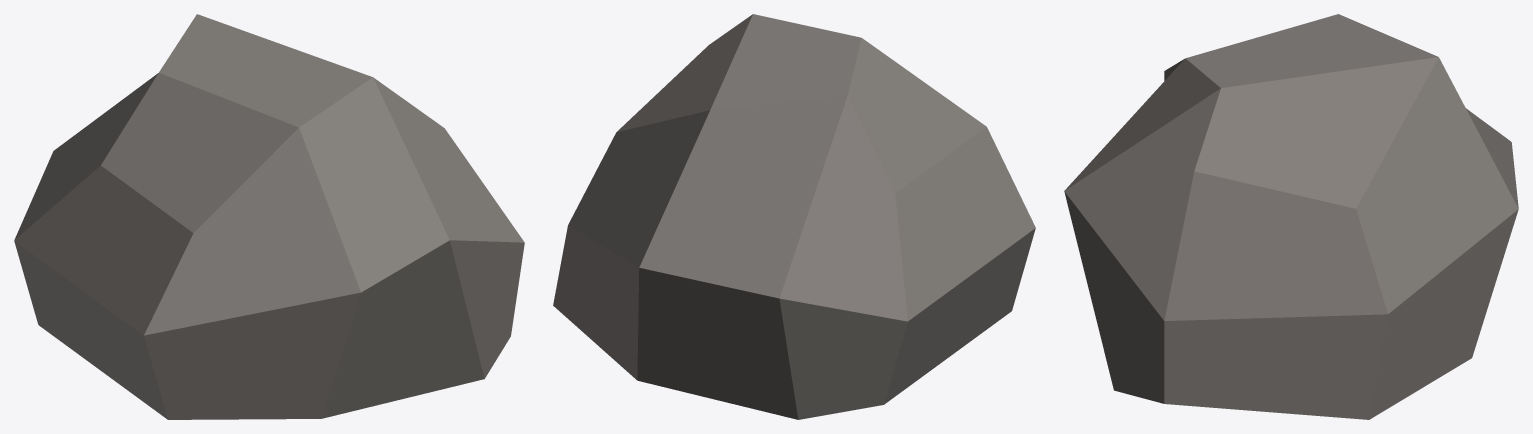
Rendered from Rock_L_1.fbx.
3 renders of one model, left to right at view 1: azimuth 30°, elevation 25°; view 2: azimuth 150°, elevation 25°; view 3: azimuth 270°, elevation 25°, orthographic.
Parts seen in each view (by area): view 1: Rock_1; view 2: Rock_1; view 3: Rock_1.
Boxes of the visible parts, x1,y1,x2,y2 form: Rock_1: (14, 14, 524, 419); Rock_1: (553, 14, 1035, 419); Rock_1: (1064, 14, 1518, 419).
Bounding box in the file's own units: 0.0323 × 0.0221 × 0.0332.
